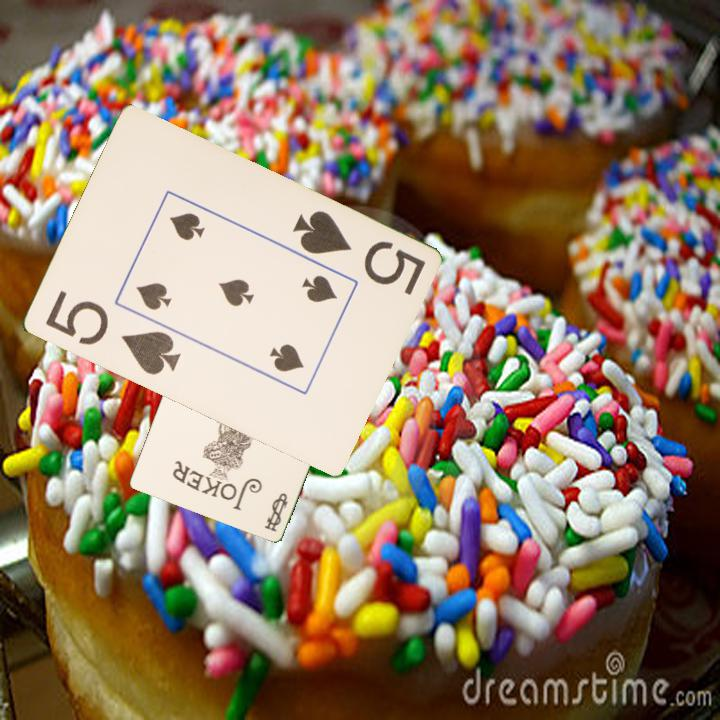5s: (41, 287, 183, 379), (288, 207, 428, 298)
JK: (261, 489, 291, 534)
